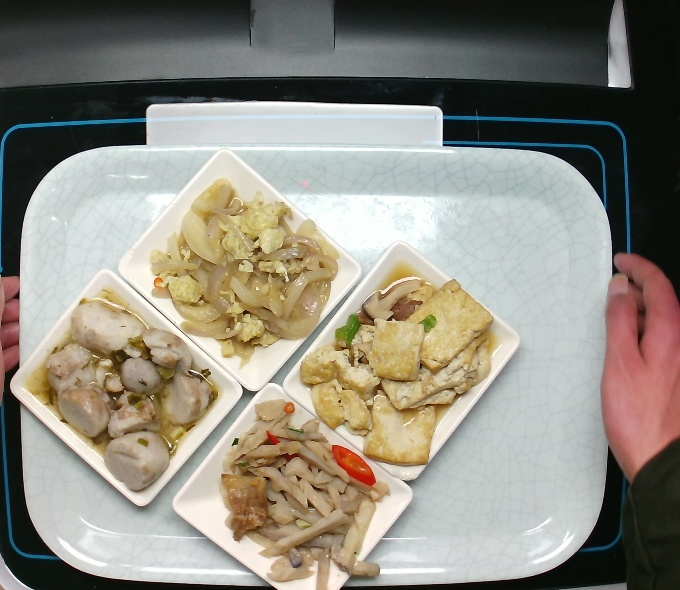wcq-JiaChangDouFu: (298, 273, 505, 468)
wcq-QingChaoOuPian: (217, 392, 387, 590)
wcq-YangCongChaoDan: (141, 171, 345, 368)
wcq-YangYu: (27, 295, 230, 496)
